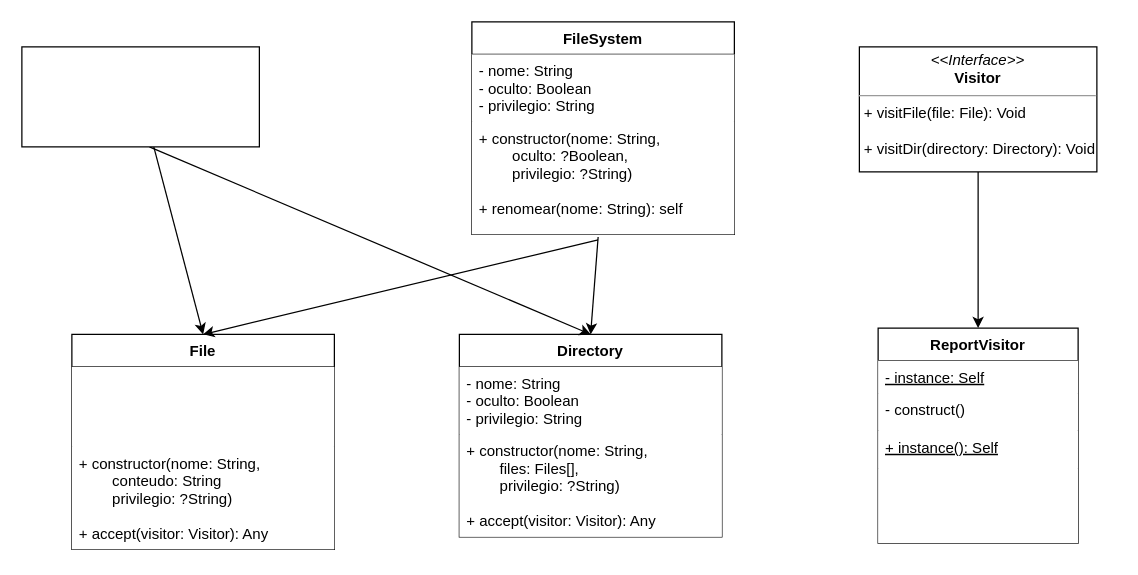
This 1138x575 diagram has some shape labels left out. Here are the shapes that lost their labels. From the top down, the centre of each, then its label:
At (x=140, y=96): "<<Interface>> Host + accept(visitor: Visitor): Any".
At (x=202, y=406): "- tamanhoEmBytes: Long - inicioPagina: Int - fimPagina: Int - conteudo: String".
At (x=978, y=505): "+ visitFile(file: File): Void + visitDir(directory: Directory): Void".
